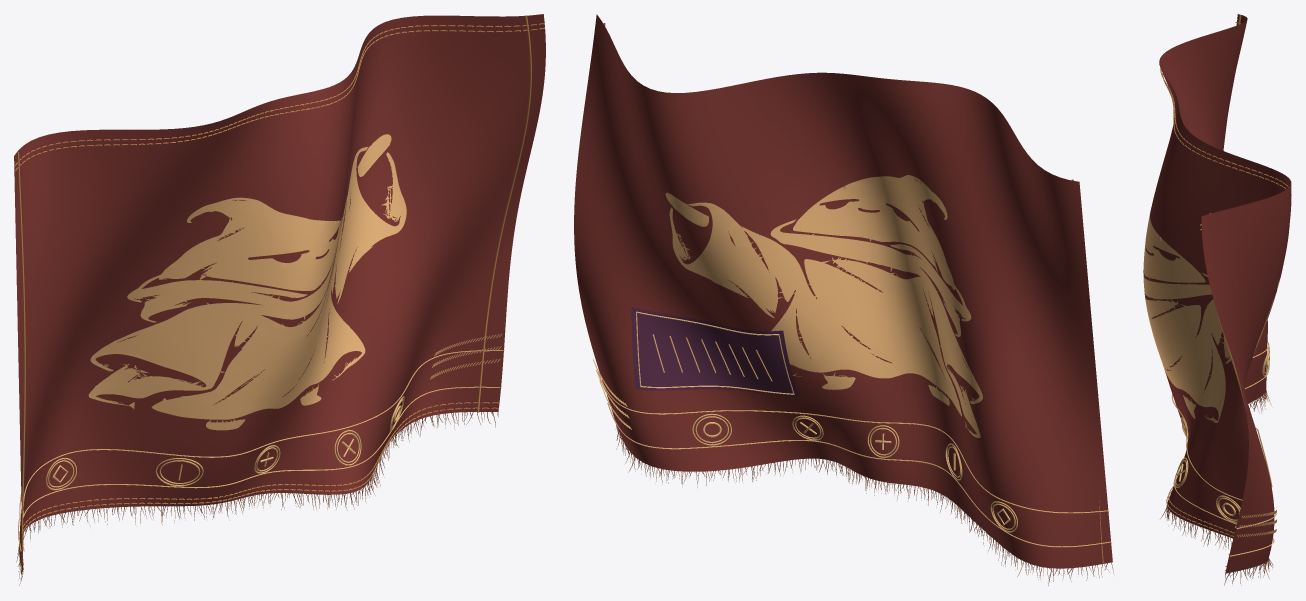
The model's file is standard.glb.
The picture shows the model from 3 angles, left to right: view 1: azimuth 30°, elevation 25°; view 2: azimuth 150°, elevation 25°; view 3: azimuth 270°, elevation 25°; orthographic projection. The views are drawn at different scales.
Visible parts, largest first — view 1: 01 | House standard, 05 | Hem and fringe, Band piping and three repair stitches; view 2: 01 | House standard, Roster_label, 05 | Hem and fringe, Band piping and three repair stitches, Roster_binding; view 3: 01 | House standard, 05 | Hem and fringe, Band piping and three repair stitches, Mark_5, Mark_4.
Part boxes in pixels (bbox=[...]): 01 | House standard: bbox=[14, 14, 545, 572]; 05 | Hem and fringe: bbox=[15, 16, 545, 585]; Band piping and three repair stitches: bbox=[18, 333, 504, 551]; 01 | House standard: bbox=[574, 14, 1112, 568]; Roster_label: bbox=[631, 307, 798, 396]; 05 | Hem and fringe: bbox=[603, 23, 1114, 585]; Band piping and three repair stitches: bbox=[593, 359, 1111, 547]; Roster_binding: bbox=[636, 311, 794, 394]; 01 | House standard: bbox=[1143, 14, 1291, 573]; 05 | Hem and fringe: bbox=[1160, 14, 1288, 585]; Band piping and three repair stitches: bbox=[1171, 342, 1276, 556]; Mark_5: bbox=[1216, 495, 1240, 522]; Mark_4: bbox=[1174, 457, 1188, 487].
Size of the model in its own units: 4.86 by 3.9 by 1.26.
